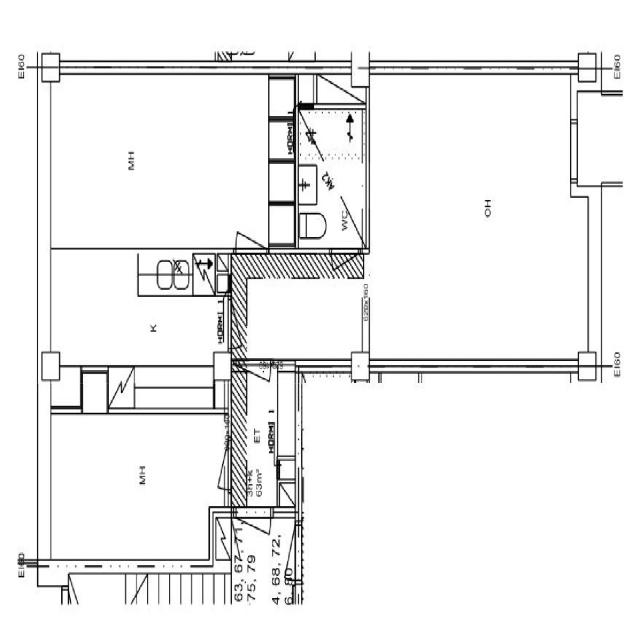window: (310, 76, 364, 110), (297, 354, 353, 381), (235, 505, 275, 539)
zone: (379, 73, 583, 365), (50, 74, 282, 255), (46, 246, 230, 410), (44, 408, 232, 566), (296, 102, 367, 254), (236, 368, 280, 512)
